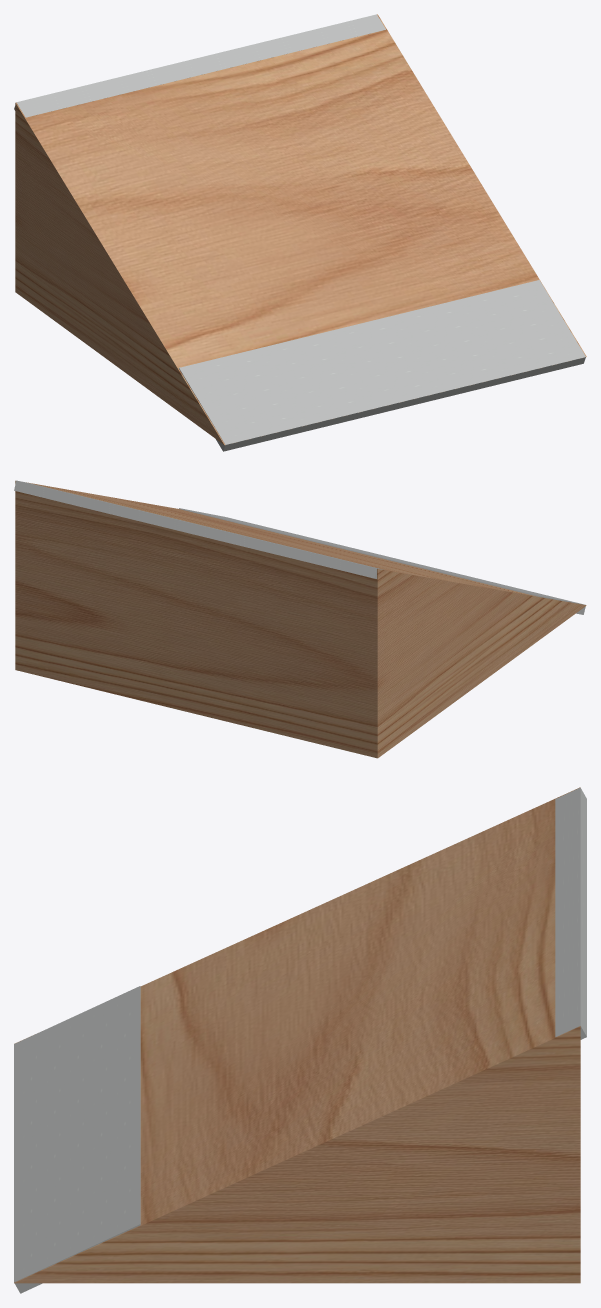
The model's file is StraightShortRamp.fbx.
3 renders of one model, top to bottom at view 1: azimuth 30°, elevation 25°; view 2: azimuth 150°, elevation 25°; view 3: azimuth 270°, elevation 25°, orthographic. The views are drawn at different scales.
Parts seen in each view (by area): view 1: Cube, Cube.001, Cube.002; view 2: Cube, Cube.002, Cube.001; view 3: Cube, Cube.001, Cube.002.
Part boxes in pixels (<box>): Cube: <box>15,14,586,445</box>; Cube.001: <box>179,280,585,451</box>; Cube.002: <box>14,14,385,117</box>; Cube: <box>15,480,586,758</box>; Cube.002: <box>14,480,383,578</box>; Cube.001: <box>179,508,585,614</box>; Cube: <box>14,787,580,1283</box>; Cube.001: <box>14,986,140,1293</box>; Cube.002: <box>555,787,586,1039</box>.
Size of the model in its own units: 200 by 104 by 202.
3 materials, 3 textured.
